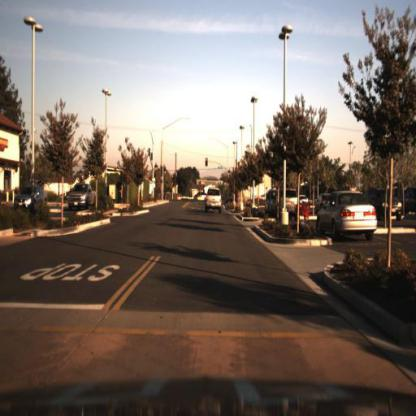car: (312, 188, 384, 245), (13, 181, 44, 215), (67, 183, 97, 212), (275, 188, 302, 218), (202, 189, 226, 215)
trafficLight-Red: (204, 155, 210, 167), (170, 172, 175, 182)
